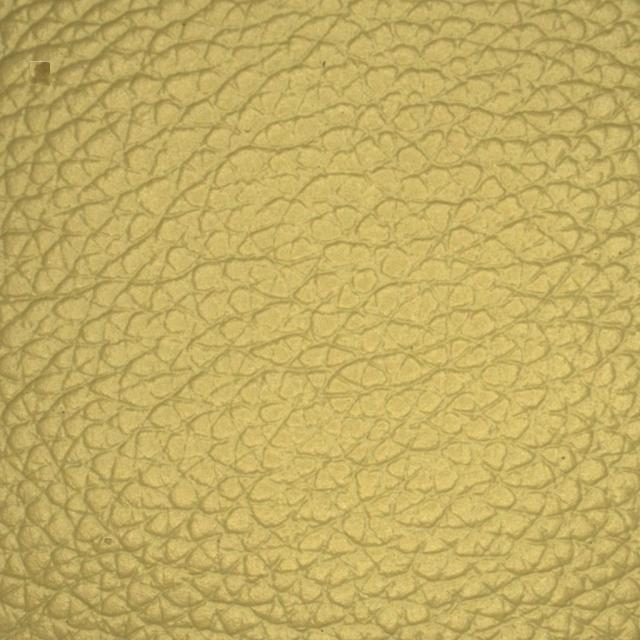pinhole: (10, 19, 91, 135)
